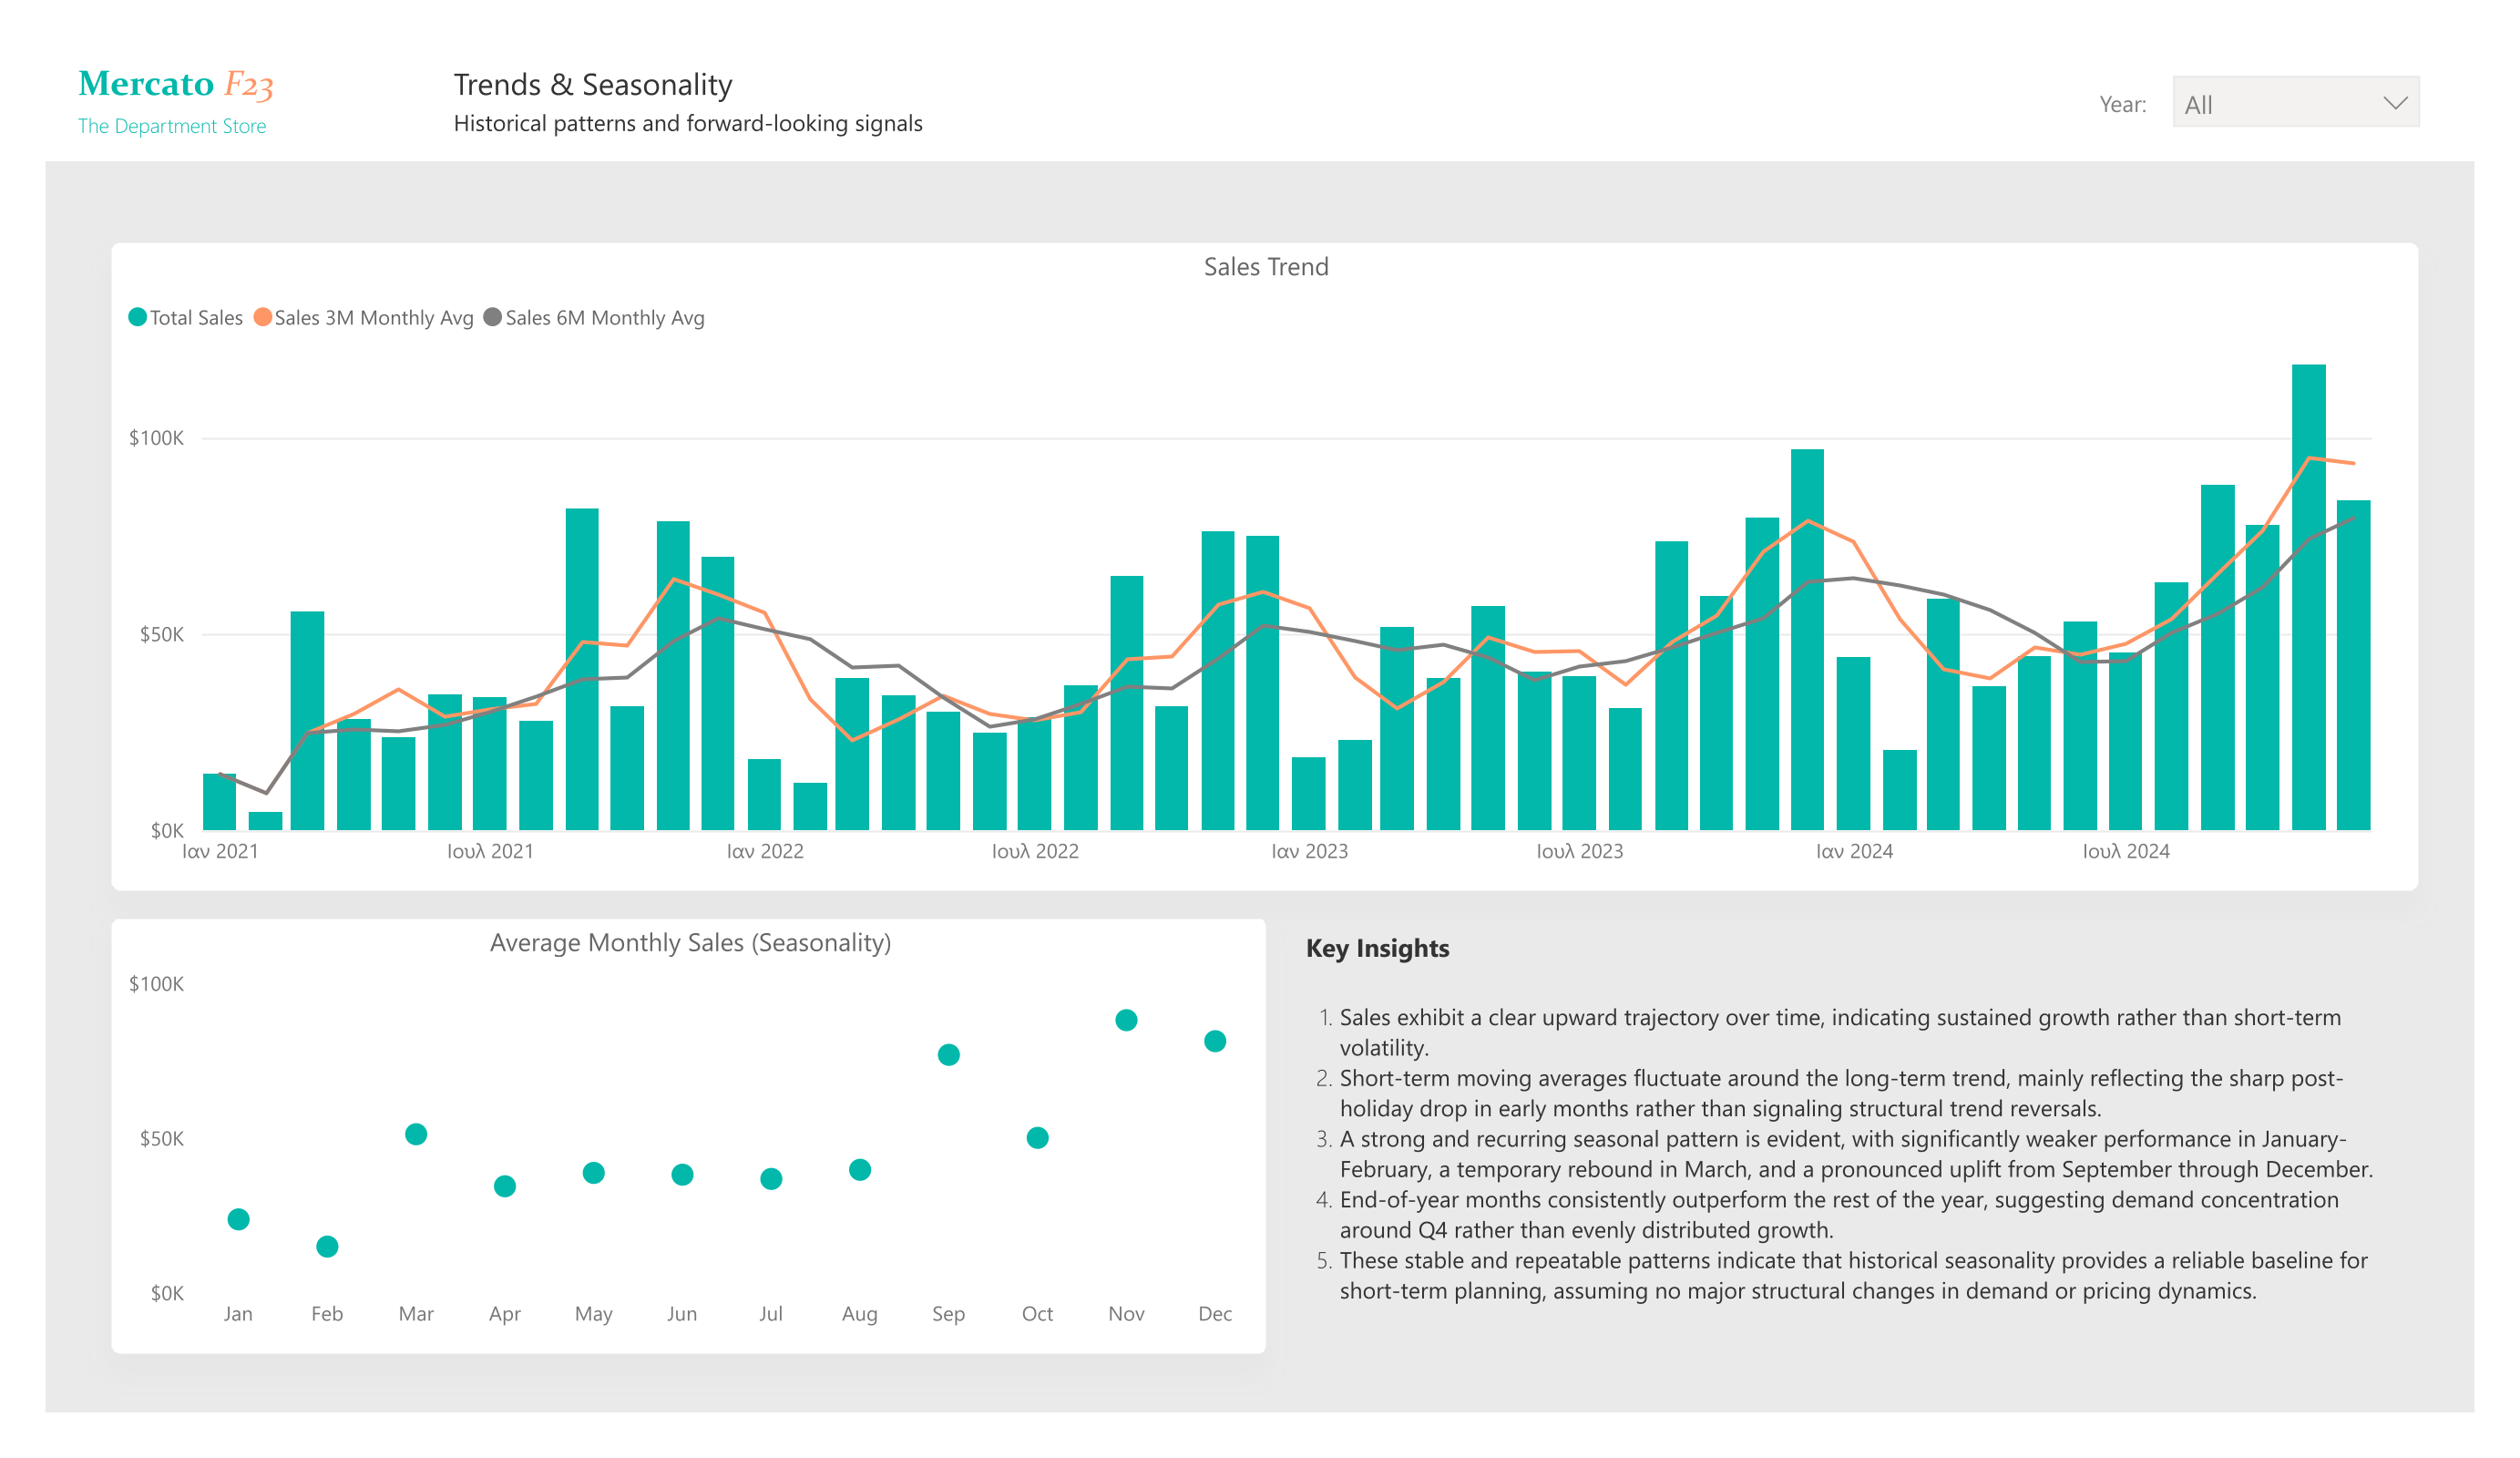

The page's visual inventory and layout, read from the dashboard file:
{"tool":"powerbi","page":{"name":"Trends & Seasonality","canvas":[1280,720],"ordinal":5},"visuals":[{"type":"textbox","box":[0,0,1280,61],"z":0},{"type":"textbox","box":[210,4,287.3,50],"z":1000},{"type":"slicer","fields":{"Values":["Dim_Date.Year"]},"box":[1110.9,6.3,150,45.5],"z":2000},{"type":"textbox","box":[1016.2,15.2,95.3,37],"z":3000},{"type":"textbox","box":[659,460,591,229],"z":5000},{"type":"lineClusteredColumnComboChart","title":"Sales Trend","fields":{"Category":["Dim_Date.Start of Month"],"Y":["Measure Table.Total Sales"],"Y2":["Measure Table.Sales MA 3M","Measure Table.Sales MA 6M"]},"box":[35.3,104,1214.5,341],"z":6000},{"type":"lineChart","title":"Average Monthly Sales (Seasonality)","fields":{"Y":["Measure Table.Avg Monthly Sales"],"Category":["Dim_Date.Month Short EN "]},"box":[35.3,460,607.7,229],"z":7000},{"type":"textbox","box":[12.2,3,133.3,54],"z":8000}]}

Visuals, with their boxes on the page's 1280x720 design canvas (x1, y1, x2, y2). These are canvas units, not pixel positions in the 2520x1458 screenshot, which may show the page scaled, cropped or inside an application window:
textbox: crop(0, 0, 1280, 61)
textbox: crop(210, 4, 497, 54)
slicer - Dim_Date.Year: crop(1111, 6, 1261, 52)
textbox: crop(1016, 15, 1112, 52)
textbox: crop(659, 460, 1250, 689)
"Sales Trend" lineClusteredColumnComboChart: crop(35, 104, 1250, 445)
"Average Monthly Sales (Seasonality)" lineChart: crop(35, 460, 643, 689)
textbox: crop(12, 3, 146, 57)
